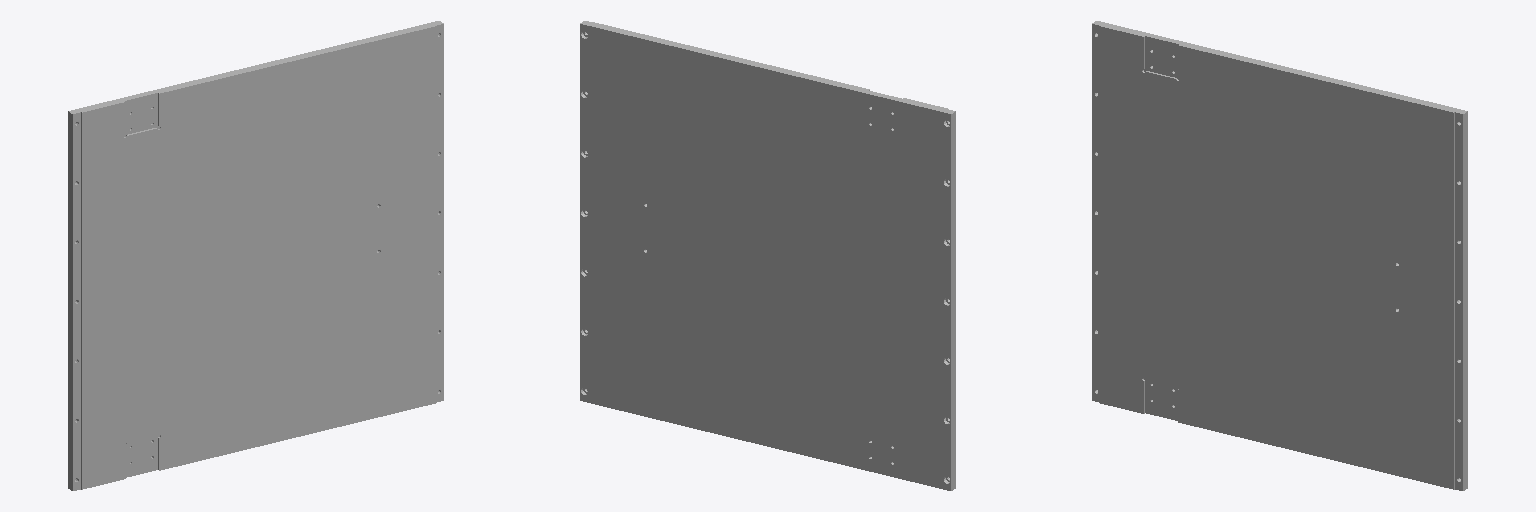
URDF robot description (ssmm_mobile):
<?xml version="1.0" encoding="utf-8"?>
<!-- This URDF was automatically created by SolidWorks to URDF Exporter! Originally created by [author] ([email redacted]) 
     Commit Version: 1.5.1-0-g916b5db  Build Version: 1.5.7152.31018
     For more information, please see http://wiki.ros.org/sw_urdf_exporter -->
<robot
  name="ssmm_mobile">
  <link
    name="base_link">
    <inertial>
      <origin
        xyz="0.043579 -0.017838 -0.022157"
        rpy="0 0 0" />
      <mass
        value="0.8861" />
      <inertia
        ixx="0.0079901"
        ixy="1.1902E-06"
        ixz="-1.0289E-18"
        iyy="0.016382"
        iyz="-4.3652E-19"
        izz="0.0084009" />
    </inertial>
    <visual>
      <origin
        xyz="0 0 0"
        rpy="0 0 0" />
      <geometry>
        <mesh
          filename="package://ssmm_mobile/meshes/base_link.STL" />
      </geometry>
      <material
        name="">
        <color
          rgba="0.75294 0.75294 0.75294 1" />
      </material>
    </visual>
    <collision>
      <origin
        xyz="0 0 0"
        rpy="0 0 0" />
      <geometry>
        <mesh
          filename="package://ssmm_mobile/meshes/base_link.STL" />
      </geometry>
    </collision>
  </link>
  <link
    name="right_wheel">
    <inertial>
      <origin
        xyz="0.12573 0.19245 0.13898"
        rpy="0 0 0" />
      <mass
        value="0.11659" />
      <inertia
        ixx="5.5634E-05"
        ixy="-6.5495E-10"
        ixz="-1.1058E-09"
        iyy="5.5634E-05"
        iyz="6.7403E-10"
        izz="0.00010273" />
    </inertial>
    <visual>
      <origin
        xyz="0 0 0"
        rpy="0 0 0" />
      <geometry>
        <mesh
          filename="package://ssmm_mobile/meshes/right_wheel.STL" />
      </geometry>
      <material
        name="">
        <color
          rgba="0.75294 0.75294 0.75294 1" />
      </material>
    </visual>
    <collision>
      <origin
        xyz="0 0 0"
        rpy="0 0 0" />
      <geometry>
        <mesh
          filename="package://ssmm_mobile/meshes/right_wheel.STL" />
      </geometry>
    </collision>
  </link>
  <joint
    name="base_to_rw"
    type="continuous">
    <origin
      xyz="0.10602 -0.183 0.022"
      rpy="1.5708 0 0" />
    <parent
      link="base_link" />
    <child
      link="right_wheel" />
    <axis
      xyz="0 0 1" />
  </joint>
  <link
    name="left_wheel">
    <inertial>
      <origin
        xyz="-0.12573 0.19245 0.13898"
        rpy="0 0 0" />
      <mass
        value="0.11659" />
      <inertia
        ixx="5.5634E-05"
        ixy="6.9199E-10"
        ixz="-1.0614E-09"
        iyy="5.5634E-05"
        iyz="-7.4188E-10"
        izz="0.00010273" />
    </inertial>
    <visual>
      <origin
        xyz="0 0 0"
        rpy="0 0 0" />
      <geometry>
        <mesh
          filename="package://ssmm_mobile/meshes/left_wheel.STL" />
      </geometry>
      <material
        name="">
        <color
          rgba="0.75294 0.75294 0.75294 1" />
      </material>
    </visual>
    <collision>
      <origin
        xyz="0 0 0"
        rpy="0 0 0" />
      <geometry>
        <mesh
          filename="package://ssmm_mobile/meshes/left_wheel.STL" />
      </geometry>
    </collision>
  </link>
  <joint
    name="base_to_lw"
    type="continuous">
    <origin
      xyz="0.10602 0.183 0.022"
      rpy="-1.5708 0 0" />
    <parent
      link="base_link" />
    <child
      link="left_wheel" />
    <axis
      xyz="0 0 1" />
  </joint>
  <link
    name="lidar">
    <inertial>
      <origin
        xyz="-0.13583 -0.060836 -0.10229"
        rpy="0 0 0" />
      <mass
        value="0.16306" />
      <inertia
        ixx="6.0724E-05"
        ixy="4.1104E-08"
        ixz="2.464E-07"
        iyy="9.2342E-05"
        iyz="6.7628E-08"
        izz="7.5686E-05" />
    </inertial>
    <visual>
      <origin
        xyz="0 0 0"
        rpy="0 0 0" />
      <geometry>
        <mesh
          filename="package://ssmm_mobile/meshes/lidar.STL" />
      </geometry>
      <material
        name="">
        <color
          rgba="0.75294 0.75294 0.75294 1" />
      </material>
    </visual>
    <collision>
      <origin
        xyz="0 0 0"
        rpy="0 0 0" />
      <geometry>
        <mesh
          filename="package://ssmm_mobile/meshes/lidar.STL" />
      </geometry>
    </collision>
  </link>
  <joint
    name="base_to_lidar"
    type="fixed">
    <origin
      xyz="0.10202 0 0.1339"
      rpy="0 0 0" />
    <parent
      link="base_link" />
    <child
      link="lidar" />
    <axis
      xyz="0 0 0" />
  </joint>
</robot>

--- What the picture shows (computed from the rendered views, not written in the file) ---
Views: 3 orthographic renders of the robot side by side, from view 1: azimuth 30°, elevation 25°; view 2: azimuth 150°, elevation 25°; view 3: azimuth 330°, elevation 25°.
Model ssmm_mobile with 4 links and 3 joints (2 continuous, 1 fixed), rooted at base_link, posed every joint at zero.
Links seen in each view (by area): view 1: base_link; view 2: base_link; view 3: base_link.
Link boxes in pixels (bbox=[...]): base_link: bbox=[68, 21, 443, 490]; base_link: bbox=[580, 21, 955, 490]; base_link: bbox=[1092, 21, 1467, 490].
Size in the robot's own frame: 0.34 by 0.008 by 0.33 metres.
1 mesh visuals loaded from 4 distinct referenced files (1 binary STL); not drawn: 3 (file found but could not be loaded).